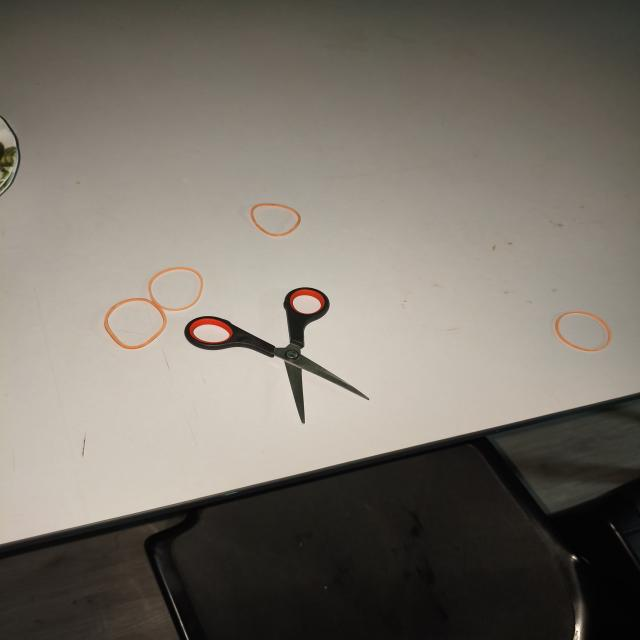scissor: (184, 287, 369, 424)
